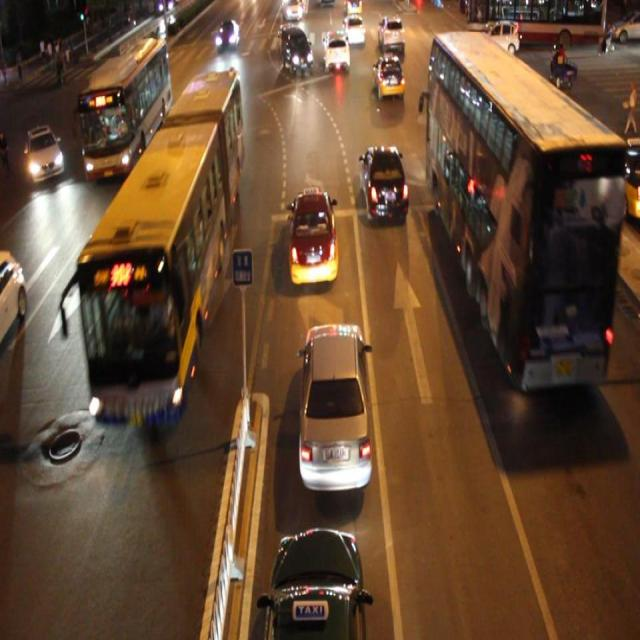car: (297, 319, 373, 495), (260, 526, 367, 640), (287, 188, 339, 284), (362, 146, 408, 221), (1, 249, 27, 344), (24, 126, 66, 184), (280, 28, 314, 75), (373, 54, 404, 99), (324, 35, 351, 73), (377, 17, 404, 53), (342, 14, 365, 46)
van: (426, 32, 613, 384), (79, 70, 244, 424), (79, 39, 171, 180)
